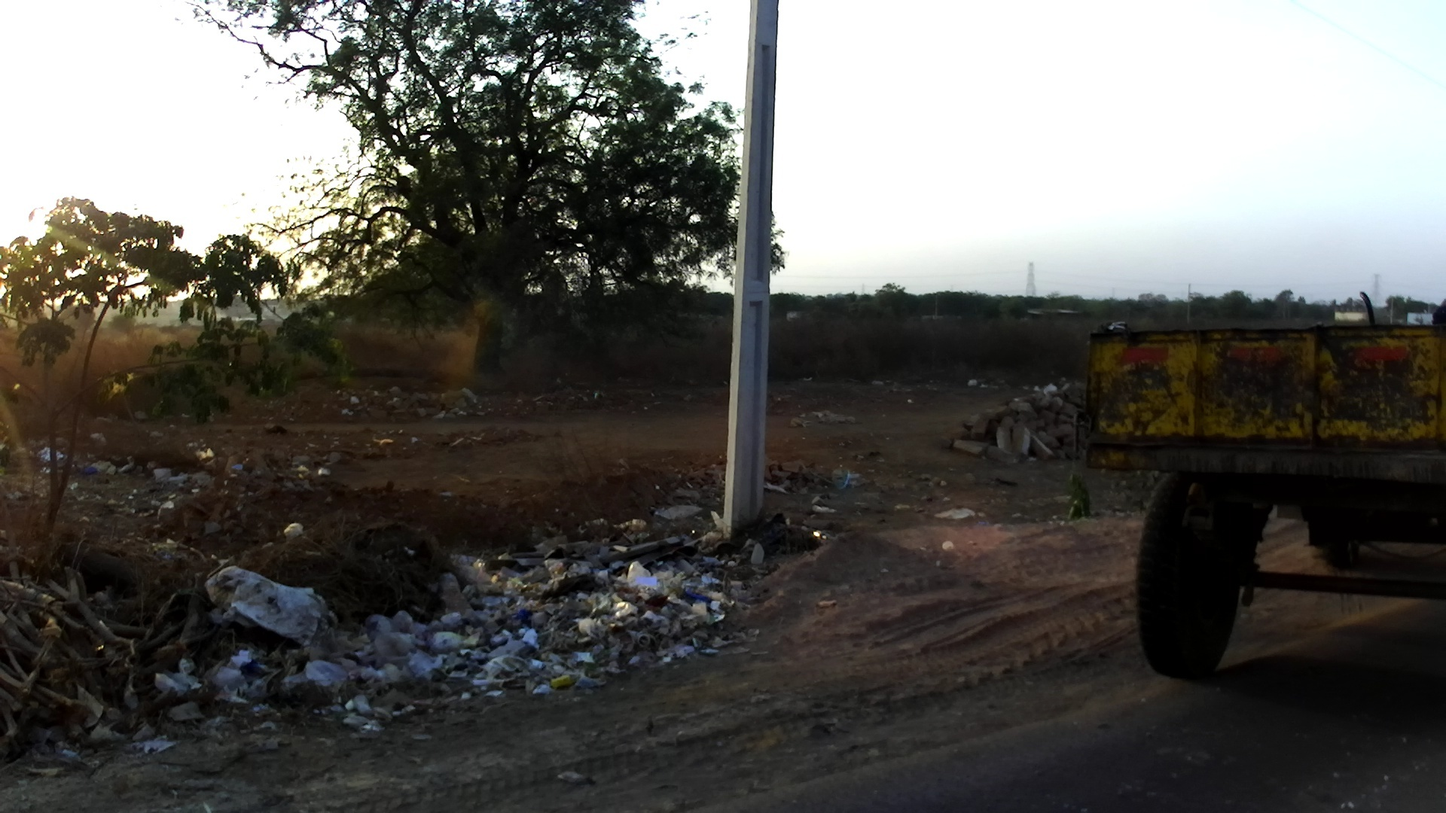vehicle fallback: (1071, 294, 1446, 684)
